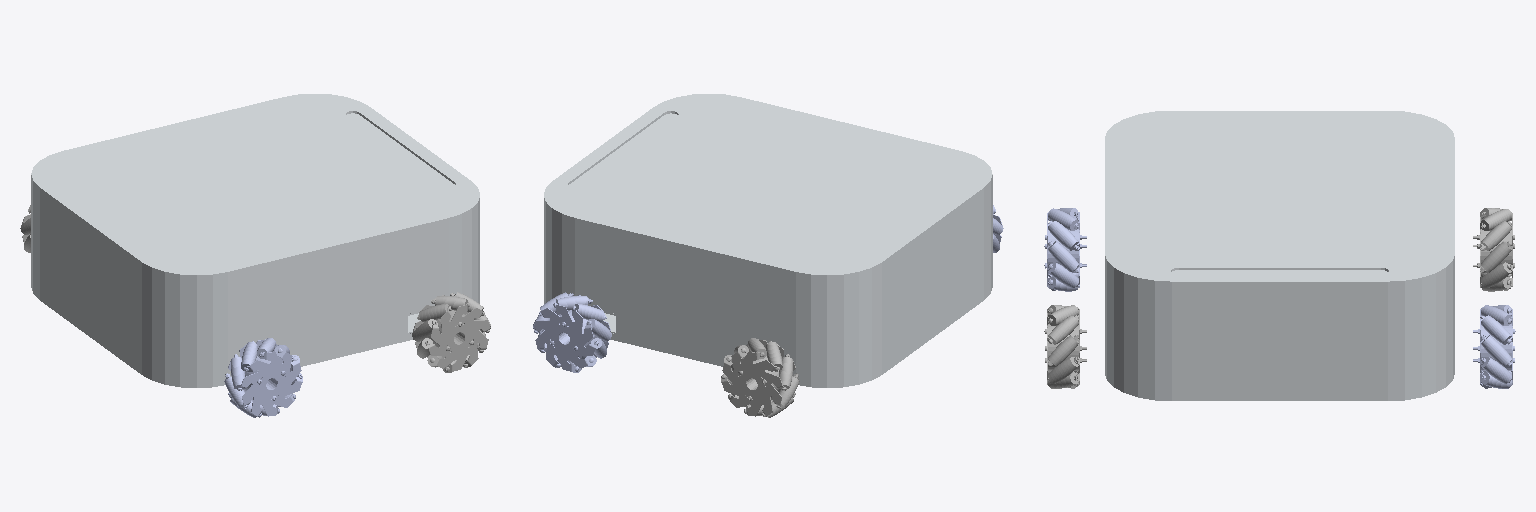
URDF robot description (doris_base):
<robot
  name="doris_base">
  <link
    name="base_link">
    <inertial>
      <origin
        xyz="-0.00231175095638991 3.41636326469522E-17 0.13190264723807"
        rpy="0 0 0" />
      <mass
        value="18.8046611398755" />
      <inertia
        ixx="0.114365566003105"
        ixy="-7.06808956867684E-19"
        ixz="-1.86141502112471E-05"
        iyy="0.114411086945939"
        iyz="-1.80645340514817E-17"
        izz="4.55209428335014E-05" />
    </inertial>
    <visual>
      <origin
        xyz="0 0 0"
        rpy="0 0 0" />
      <geometry>
        <mesh
          filename="package://doris_base/meshes/base_link.STL" />
      </geometry>
      <material
        name="">
        <color
          rgba="0.894117647058823 0.913725490196078 0.929411764705882 1" />
      </material>
    </visual>
    <collision>
      <origin
        xyz="0 0 0"
        rpy="0 0 0" />
      <geometry>
        <mesh
          filename="package://doris_base/meshes/base_link.STL" />
      </geometry>
    </collision>
  </link>
  <link
    name="front_left">
    <inertial>
      <origin
        xyz="6.61939114632304E-11 -0.0250695498772086 1.28861116222012E-10"
        rpy="0 0 0" />
      <mass
        value="0.37985925578285" />
      <inertia
        ixx="0.000229876290621417"
        ixy="-1.74946693852896E-15"
        ixz="1.77761915397052E-14"
        iyy="0.000432080363678131"
        iyz="-3.40404440953145E-15"
        izz="0.000229876290655882" />
    </inertial>
    <visual>
      <origin
        xyz="0 0 0"
        rpy="0 0 0" />
      <geometry>
        <mesh
          filename="package://doris_base/meshes/front_left.STL" />
      </geometry>
      <material
        name="">
        <color
          rgba="0.792156862745098 0.819607843137255 0.933333333333333 1" />
      </material>
    </visual>
    <collision>
      <origin
        xyz="0 0 0"
        rpy="0 0 0" />
      <geometry>
        <mesh
          filename="package://doris_base/meshes/front_left.STL" />
      </geometry>
    </collision>
  </link>
  <joint
    name="front_left_joint"
    type="continuous">
    <origin
      xyz="0.1705 0.34622 0.0622"
      rpy="0 0 0" />
    <parent
      link="base_link" />
    <child
      link="front_left" />
    <axis
      xyz="0 1 0" />
  </joint>
  <link
    name="front_right">
    <inertial>
      <origin
        xyz="-6.61940502411085E-11 0.0250695498772053 1.28862753800973E-10"
        rpy="0 0 0" />
      <mass
        value="0.379859255782933" />
      <inertia
        ixx="0.00022987629060951"
        ixy="-1.74632489234028E-15"
        ixz="1.72452934975331E-14"
        iyy="0.000432080363668663"
        iyz="3.38807671367765E-15"
        izz="0.000229876290658329" />
    </inertial>
    <visual>
      <origin
        xyz="0 0 0"
        rpy="0 0 0" />
      <geometry>
        <mesh
          filename="package://doris_base/meshes/front_right.STL" />
      </geometry>
      <material
        name="">
        <color
          rgba="0.752941176470588 0.752941176470588 0.752941176470588 1" />
      </material>
    </visual>
    <collision>
      <origin
        xyz="0 0 0"
        rpy="0 0 0" />
      <geometry>
        <mesh
          filename="package://doris_base/meshes/front_right.STL" />
      </geometry>
    </collision>
  </link>
  <joint
    name="front_right_joint"
    type="continuous">
    <origin
      xyz="0.1705 -0.346 0.0622"
      rpy="0 0 0" />
    <parent
      link="base_link" />
    <child
      link="front_right" />
    <axis
      xyz="0 1 0" />
  </joint>
  <link
    name="back_left">
    <inertial>
      <origin
        xyz="-9.32842691980795E-11 -0.0250695498770137 1.10841214678858E-10"
        rpy="0 0 0" />
      <mass
        value="0.379859255787887" />
      <inertia
        ixx="0.000229876290574557"
        ixy="2.44987423393622E-15"
        ixz="-4.17867632077735E-15"
        iyy="0.000432080363655617"
        iyz="-2.89717145516545E-15"
        izz="0.000229876290680559" />
    </inertial>
    <visual>
      <origin
        xyz="0 0 0"
        rpy="0 0 0" />
      <geometry>
        <mesh
          filename="package://doris_base/meshes/back_left.STL" />
      </geometry>
      <material
        name="">
        <color
          rgba="0.752941176470588 0.752941176470588 0.752941176470588 1" />
      </material>
    </visual>
    <collision>
      <origin
        xyz="0 0 0"
        rpy="0 0 0" />
      <geometry>
        <mesh
          filename="package://doris_base/meshes/back_left.STL" />
      </geometry>
    </collision>
  </link>
  <joint
    name="back_left_joint"
    type="continuous">
    <origin
      xyz="-0.1705 0.346 0.0622"
      rpy="0 0 0" />
    <parent
      link="base_link" />
    <child
      link="back_left" />
    <axis
      xyz="0 1 0" />
  </joint>
  <link
    name="back_right">
    <inertial>
      <origin
        xyz="-1.44449008310232E-10 0.0250695498770225 -1.10328447766594E-11"
        rpy="0 0 0" />
      <mass
        value="0.379859255787684" />
      <inertia
        ixx="0.000229876290572124"
        ixy="-3.79841330821982E-15"
        ixz="-5.0475590448876E-15"
        iyy="0.000432080363651794"
        iyz="-3.22479708057775E-16"
        izz="0.000229876290679165" />
    </inertial>
    <visual>
      <origin
        xyz="0 0 0"
        rpy="0 0 0" />
      <geometry>
        <mesh
          filename="package://doris_base/meshes/back_right.STL" />
      </geometry>
      <material
        name="">
        <color
          rgba="0.792156862745098 0.819607843137255 0.933333333333333 1" />
      </material>
    </visual>
    <collision>
      <origin
        xyz="0 0 0"
        rpy="0 0 0" />
      <geometry>
        <mesh
          filename="package://doris_base/meshes/back_right.STL" />
      </geometry>
    </collision>
  </link>
  <joint
    name="back_right_joint"
    type="continuous">
    <origin
      xyz="-0.1705 -0.346 0.0622"
      rpy="0 0 0" />
    <parent
      link="base_link" />
    <child
      link="back_right" />
    <axis
      xyz="0 1 0" />
  </joint>
</robot>

--- Render facts (derived) ---
3 views of the same robot in one strip: view 1: azimuth 30°, elevation 25°; view 2: azimuth 150°, elevation 25°; view 3: azimuth 270°, elevation 25° (orthographic).
Model doris_base with 5 links and 4 joints (4 continuous), rooted at base_link, posed every joint at zero.
Visible links, largest first — view 1: base_link, front_right, back_right; view 2: base_link, front_left, back_left; view 3: base_link, front_right, front_left, back_right, back_left.
Boxes of the visible links, bbox=[...] form: base_link: bbox=[31, 94, 479, 387]; front_right: bbox=[412, 292, 490, 372]; back_right: bbox=[224, 338, 302, 417]; base_link: bbox=[544, 94, 992, 387]; front_left: bbox=[533, 292, 611, 372]; back_left: bbox=[721, 338, 799, 417]; base_link: bbox=[1105, 111, 1454, 400]; front_right: bbox=[1044, 305, 1086, 388]; front_left: bbox=[1473, 305, 1515, 388]; back_right: bbox=[1044, 208, 1086, 291]; back_left: bbox=[1473, 208, 1514, 291].
Size in the robot's own frame: 0.6 by 0.6983 by 0.2293 metres.
5 mesh visuals loaded from 5 distinct referenced files (5 binary STL).
